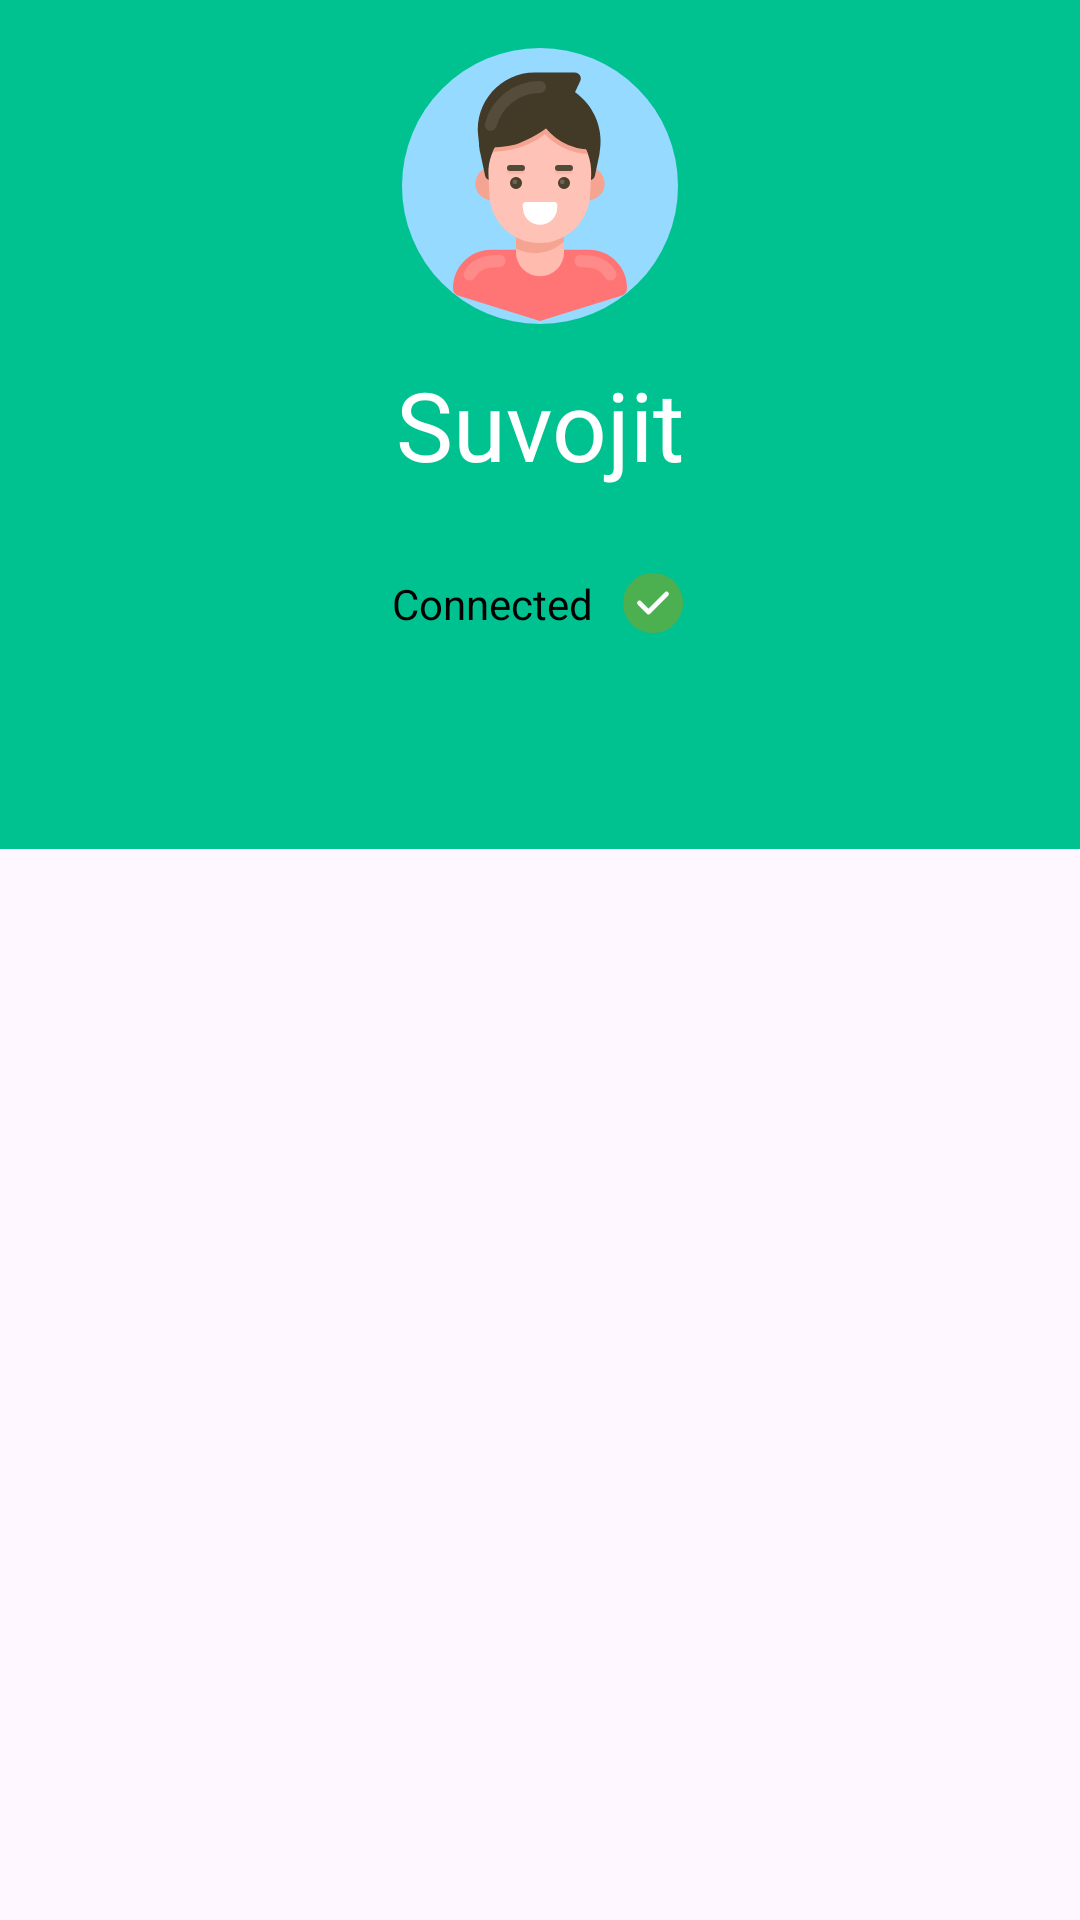

Named icons in this screenshot (1080px×1920px) and their bounding boxes, (x1, y1, x2, y2):
check: (623, 573, 683, 633)
user: (402, 48, 678, 324)
